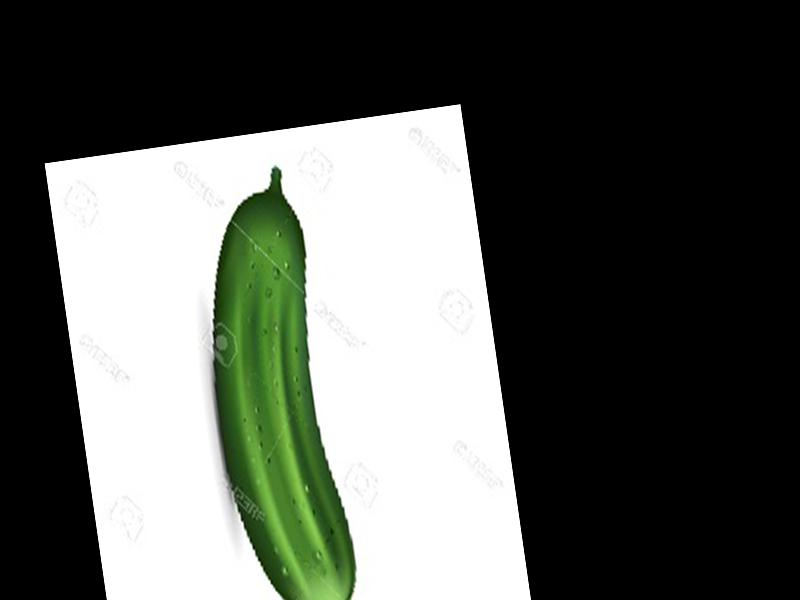Cucumber: (183, 164, 362, 600)
